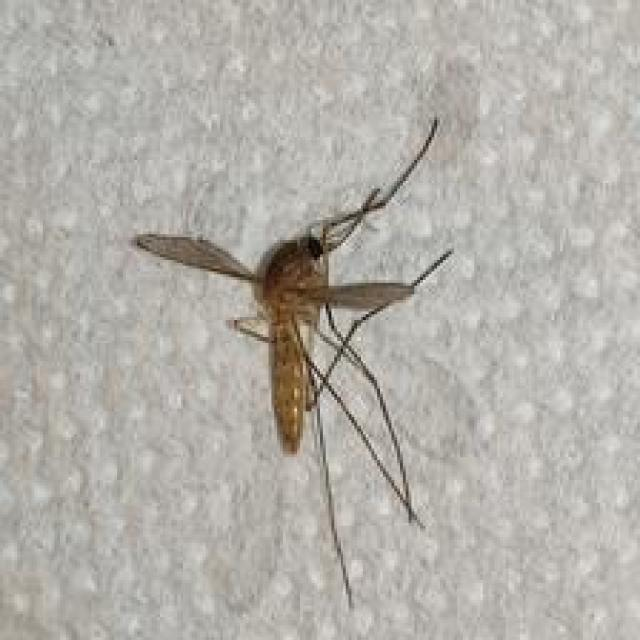Culex: (132, 114, 454, 609)
